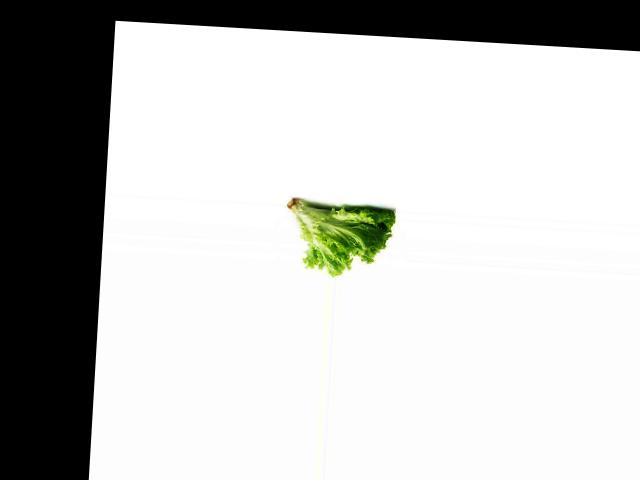lettuce: (280, 195, 395, 280)
